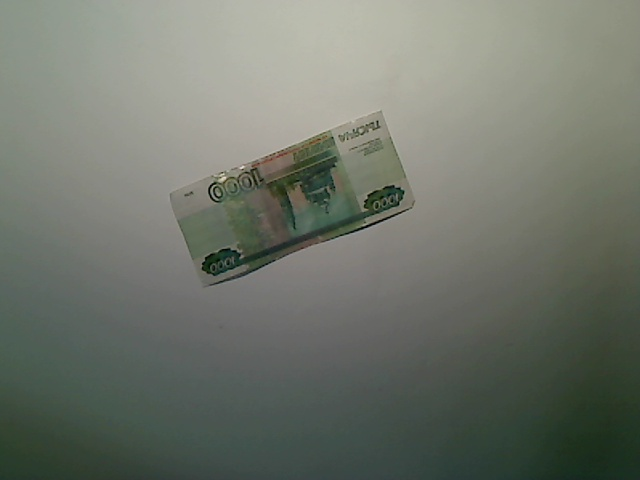banknotes: (163, 105, 422, 291)
